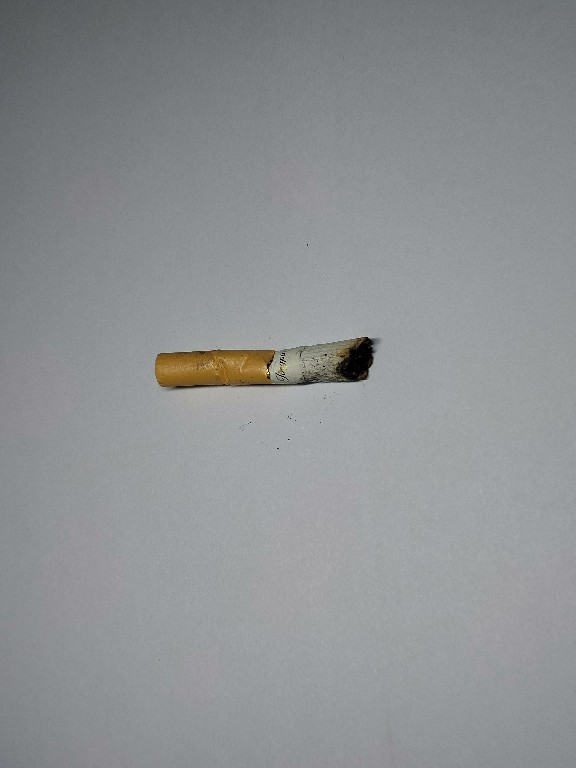cigarette: (150, 333, 384, 393)
